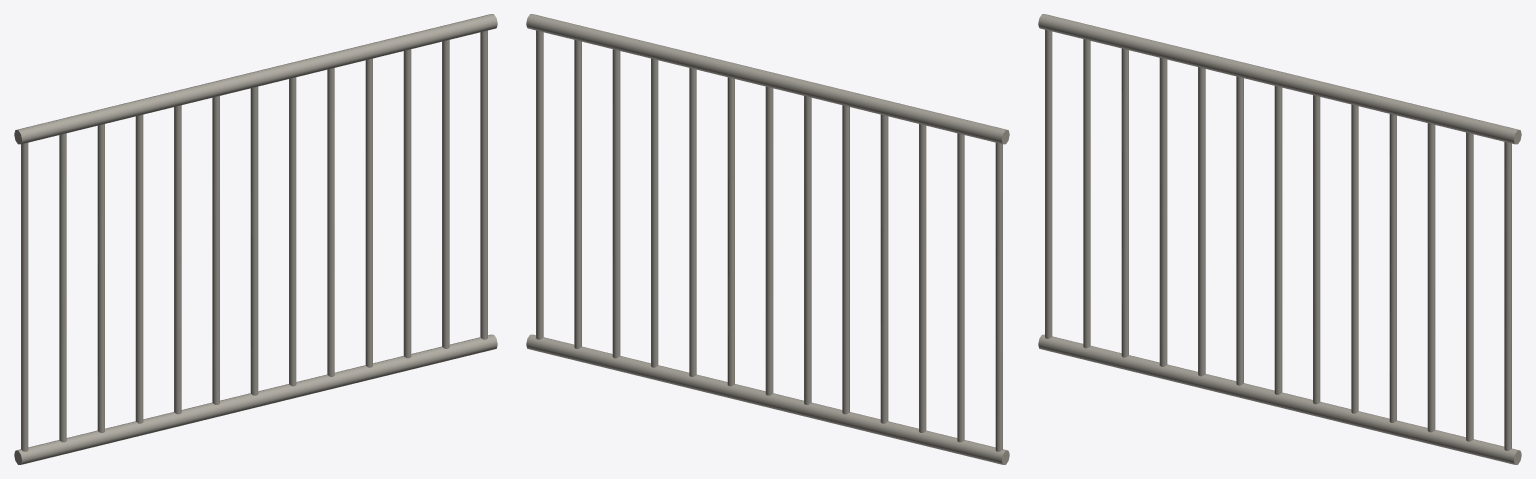
The model's file is fence_ending.fbx.
The picture shows the model from 3 angles, left to right: view 1: azimuth 30°, elevation 25°; view 2: azimuth 150°, elevation 25°; view 3: azimuth 330°, elevation 25°; orthographic projection.
Visible parts, largest first — view 1: fence_ending; view 2: fence_ending; view 3: fence_ending.
Boxes of the visible parts, x1,y1,x2,y2 form: fence_ending: (14, 14, 497, 464); fence_ending: (526, 14, 1009, 464); fence_ending: (1038, 14, 1521, 464).
Size of the model in its own units: 134 by 90.37 by 3.89.
